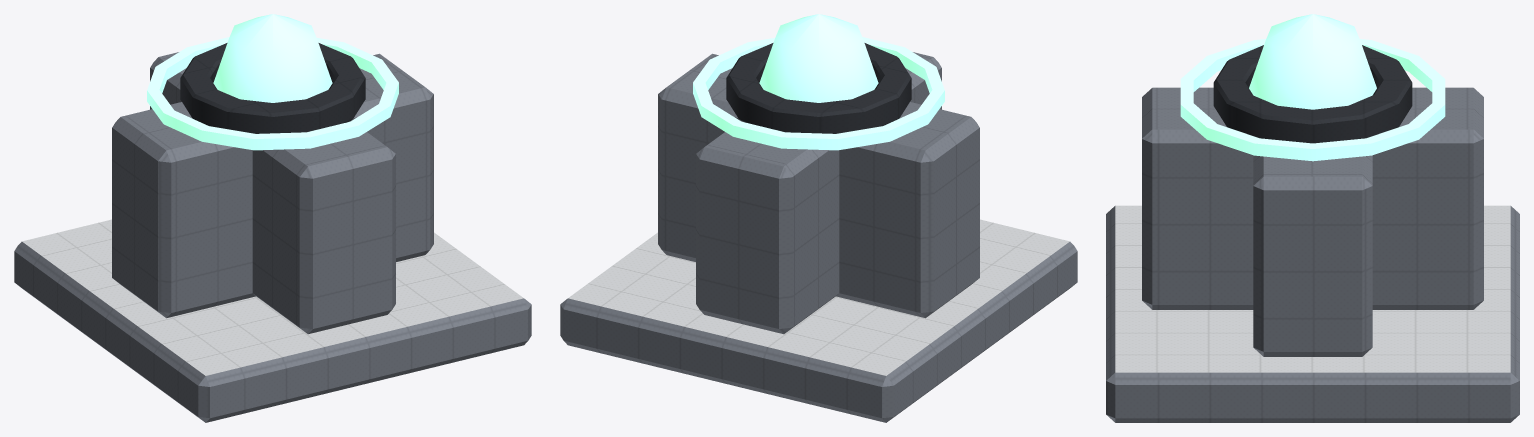
Rendered from R4X_RepairPulse_LOD1.glb.
3 renders of one model, left to right at view 1: azimuth 30°, elevation 25°; view 2: azimuth 150°, elevation 25°; view 3: azimuth 270°, elevation 25°, orthographic. The views are drawn at different scales.
Parts seen in each view (by area): view 1: R4X_RepairPulse_LOD1; view 2: R4X_RepairPulse_LOD1; view 3: R4X_RepairPulse_LOD1.
Boxes of the visible parts, left/top/right/bottom form: R4X_RepairPulse_LOD1: left=14, top=14, right=531, bottom=422; R4X_RepairPulse_LOD1: left=560, top=14, right=1077, bottom=422; R4X_RepairPulse_LOD1: left=1106, top=14, right=1519, bottom=422.
Bounding box in the file's own units: 0.52 × 0.4512 × 0.52.
Materials: 4 (3 with a texture image).
